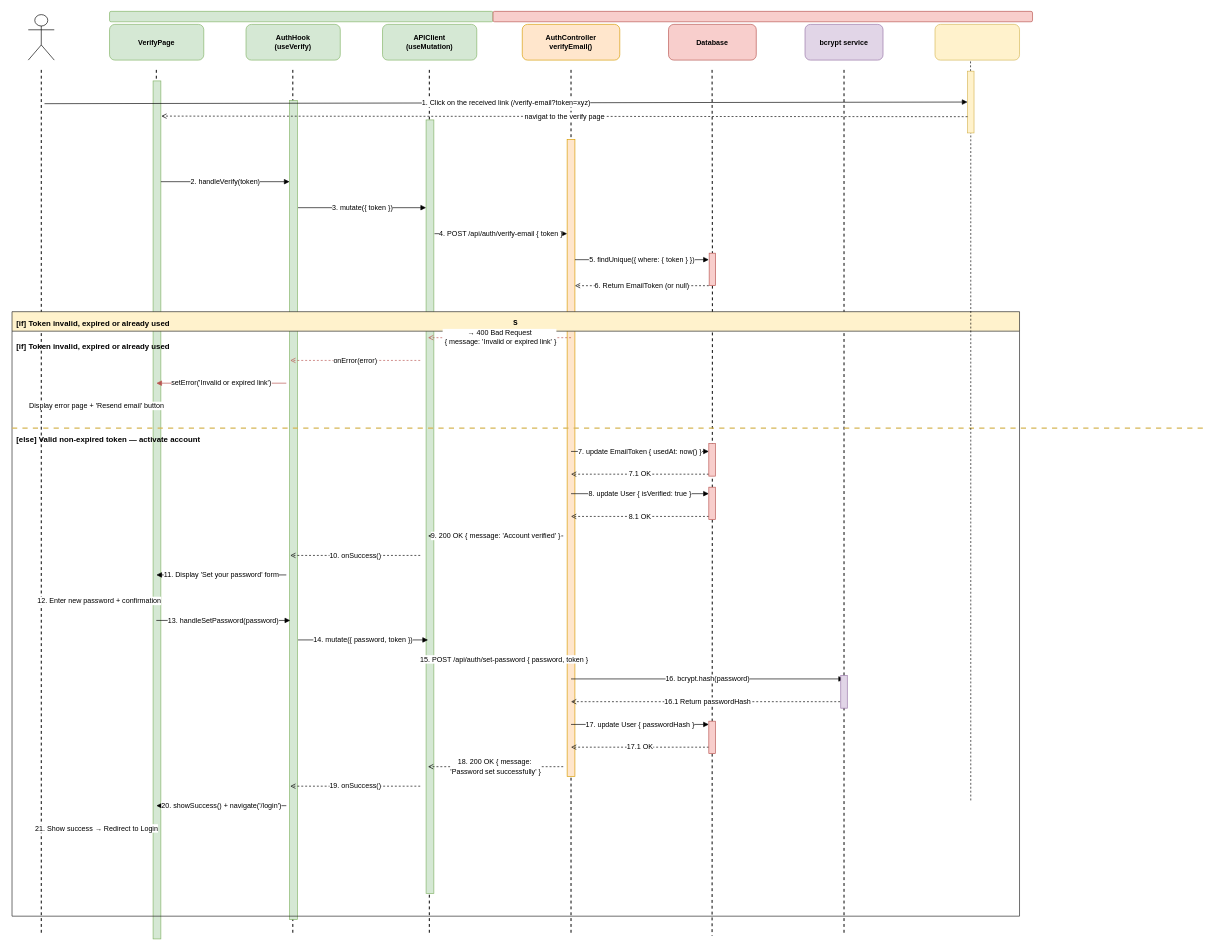
This 1219x950 diagram has some shape labels left out. The shapes that lost their labels are listed below. From the top down, each one's centre as x and y in pixels, then its label:
At (301,16): "Frontend".
At (762,16): "Backend + DB".
At (41,37): "User".
At (977,42): "Student Mailbox".
